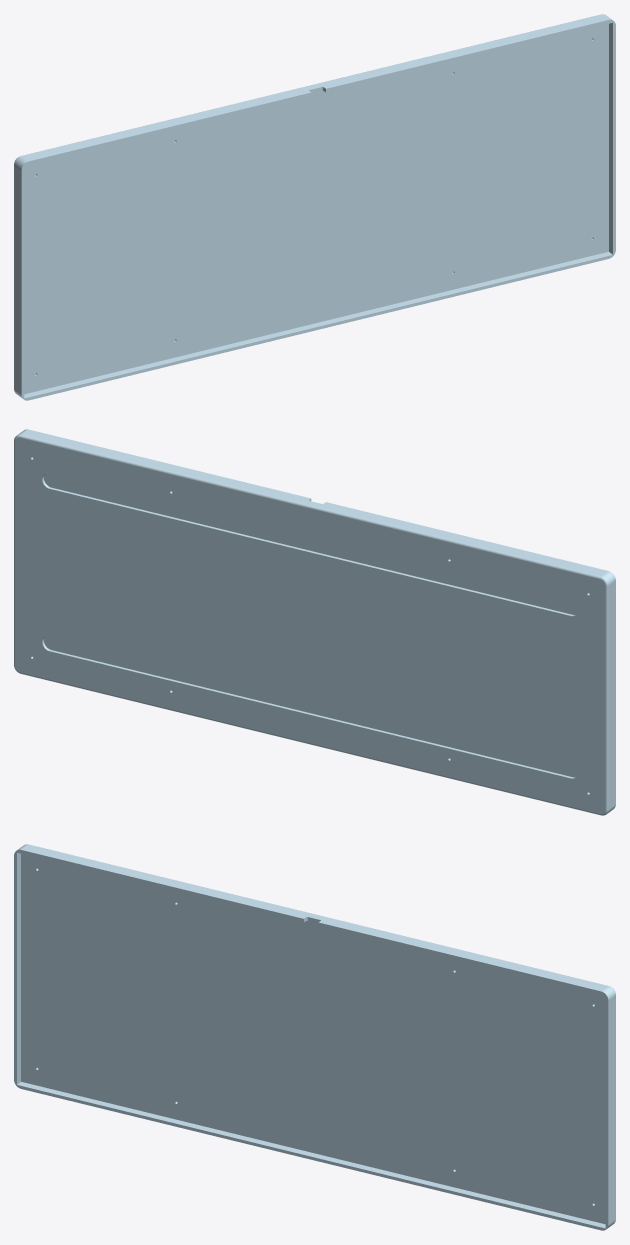
Rendered from Case-Aluminum.gltf.
The picture shows the model from 3 angles, top to bottom: view 1: azimuth 30°, elevation 25°; view 2: azimuth 150°, elevation 25°; view 3: azimuth 330°, elevation 25°; orthographic projection.
Visible parts, largest first — view 1: Part 1; view 2: Part 1; view 3: Part 1.
Boxes of the visible parts, x1=… form: Part 1: x1=14, y1=14, x2=615, y2=400; Part 1: x1=14, y1=429, x2=615, y2=815; Part 1: x1=14, y1=844, x2=615, y2=1230.
Bounding box in the file's own units: 0.406 × 0.156 × 0.01.
